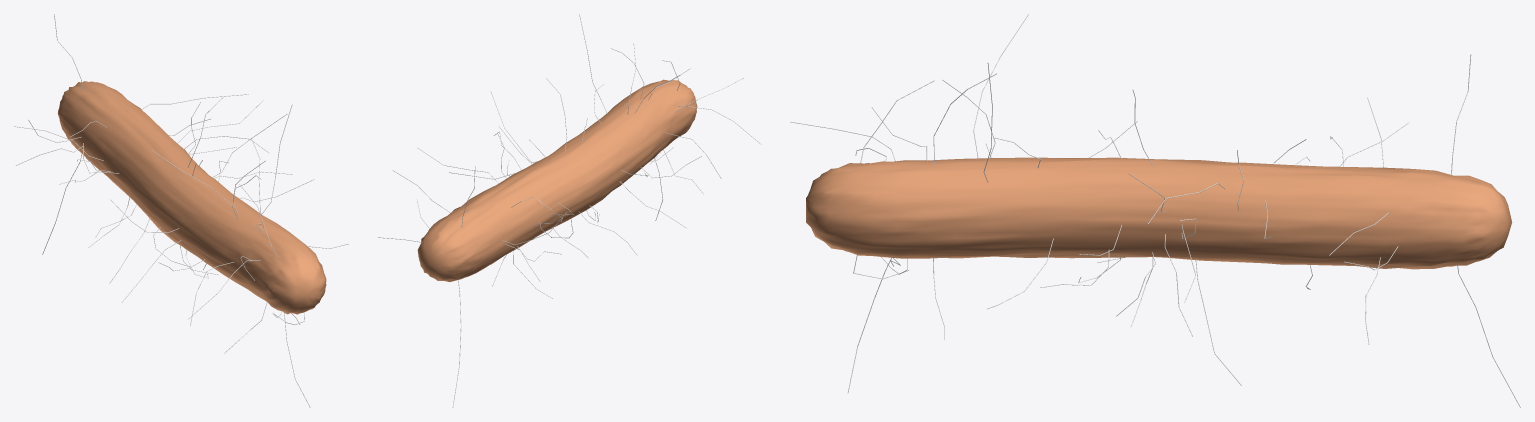
File: Bacteria_-5.fbx
3 views of the same model, side by side, from view 1: azimuth 30°, elevation 25°; view 2: azimuth 150°, elevation 25°; view 3: azimuth 270°, elevation 25° (orthographic). The views are drawn at different scales.
Parts seen in each view (by area): view 1: Bacteria, Mesh; view 2: Bacteria, Mesh; view 3: Bacteria, Mesh.
Boxes of the visible parts, x1,y1,x2,y2 form: Bacteria: (57, 81, 326, 314); Mesh: (14, 14, 348, 407); Bacteria: (417, 79, 697, 281); Mesh: (377, 14, 761, 407); Bacteria: (806, 157, 1512, 269); Mesh: (790, 14, 1520, 407).
Size of what is drawn, in the model's own units: 10.35 by 11.66 by 20.23.
